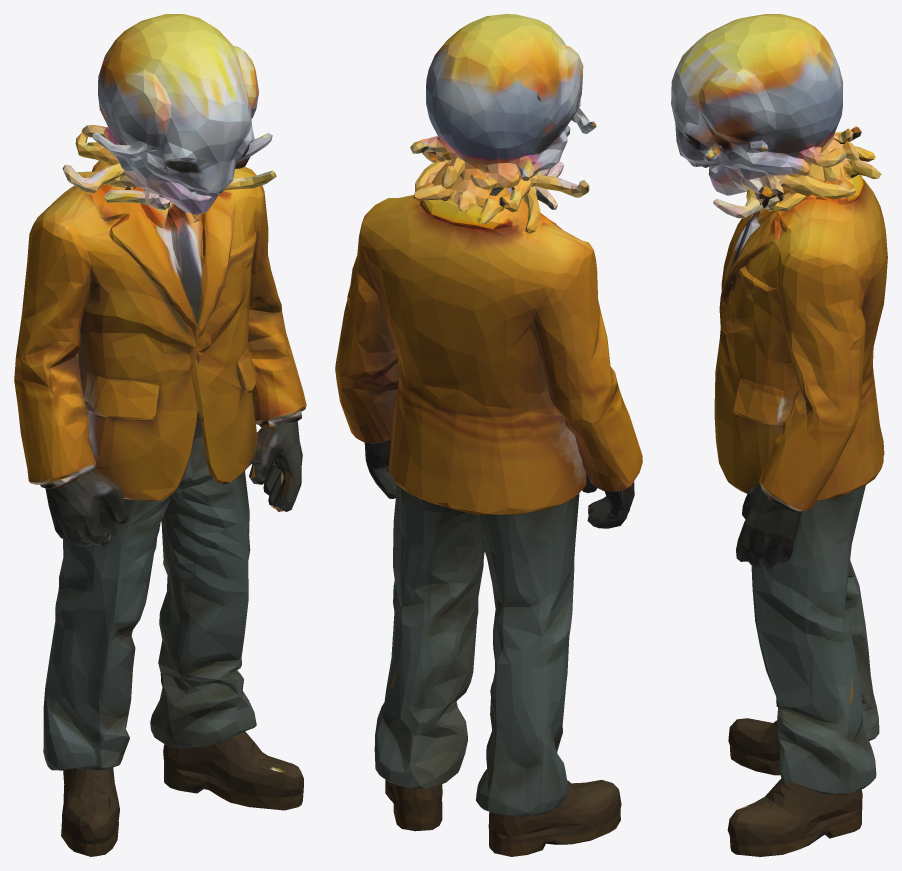
3 views of the same model, side by side, from view 1: azimuth 30°, elevation 25°; view 2: azimuth 150°, elevation 25°; view 3: azimuth 270°, elevation 25° (orthographic). The views are drawn at different scales.
Parts seen in each view (by area): view 1: figure; view 2: figure; view 3: figure.
Part boxes in pixels (box(x1,y1,x2,y2)): figure: box(14, 14, 306, 856); figure: box(335, 14, 642, 856); figure: box(671, 14, 887, 856).
Size of the model in its own units: 0.4357 by 1.2 by 0.3024.
Materials: 1 (1 with a texture image).
